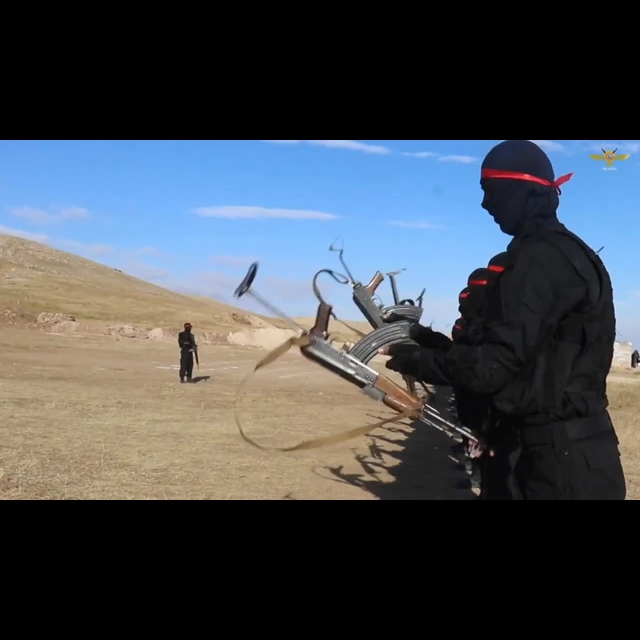AK47: (282, 302, 480, 446)
